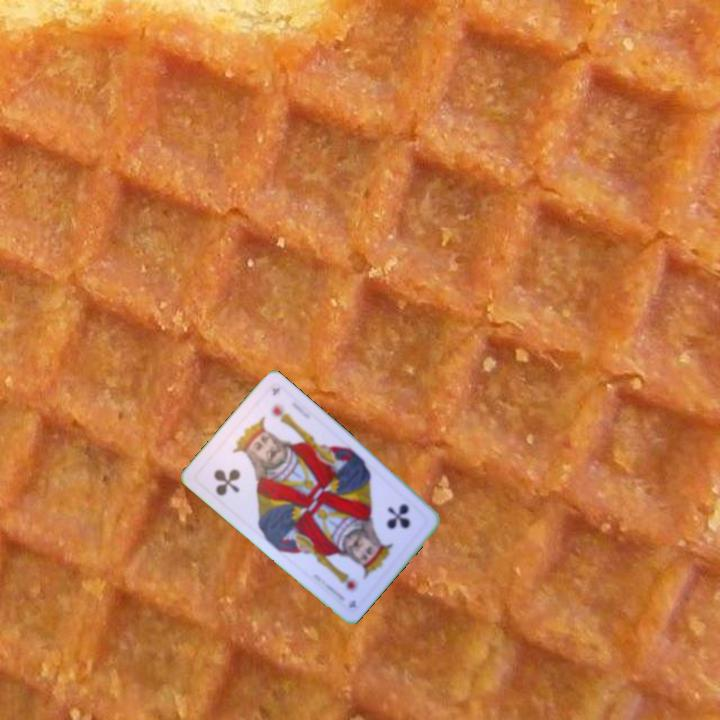c_k.png: (347, 481, 432, 567), (191, 427, 276, 513)
